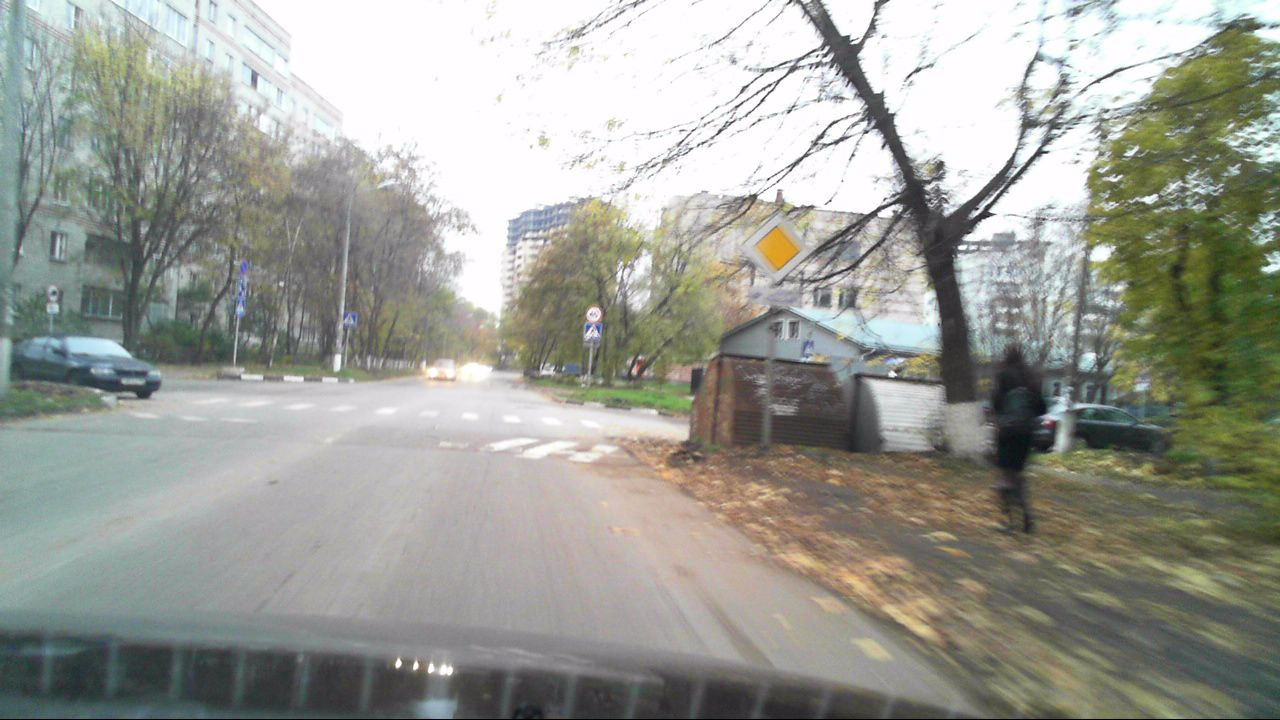speed_warning_40: (584, 305, 602, 324)
